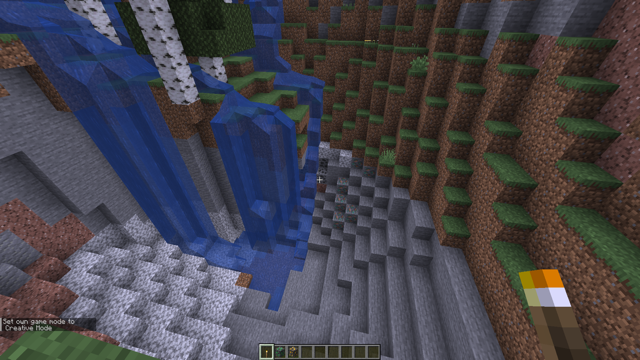coal: (314, 156, 326, 184)
copper: (333, 177, 358, 227), (352, 156, 376, 179)
